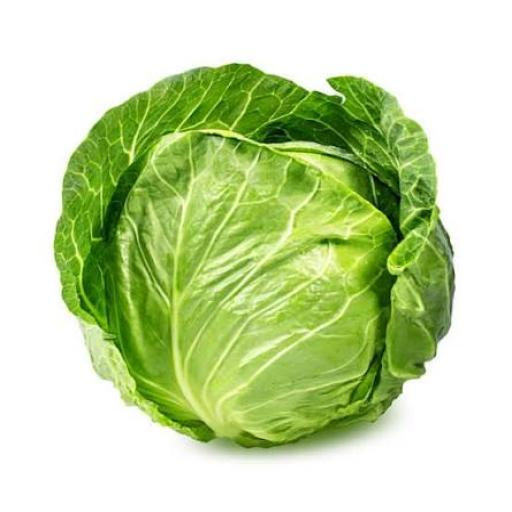cabbage: (41, 54, 465, 465), (54, 64, 453, 446)
